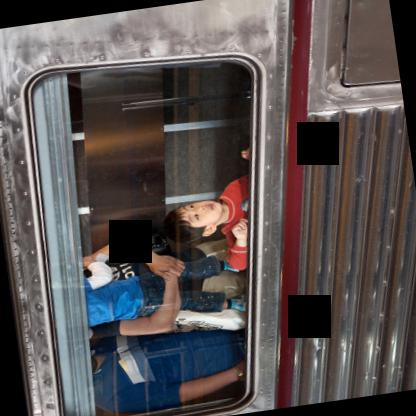handbag: (173, 308, 245, 329)
